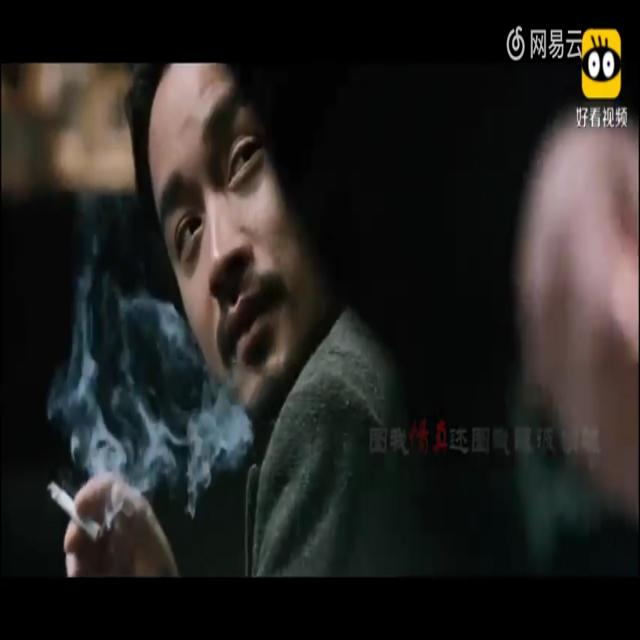smoke: (47, 479, 106, 542)
